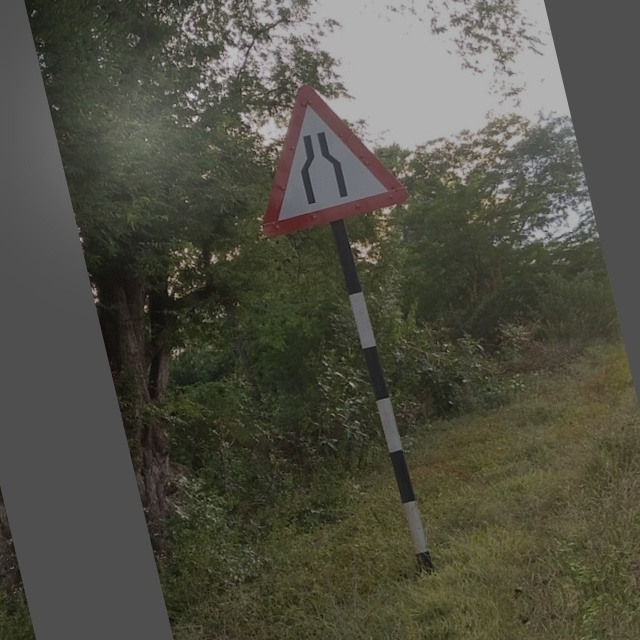Narrow_Road_Ahead: (226, 63, 414, 243)
